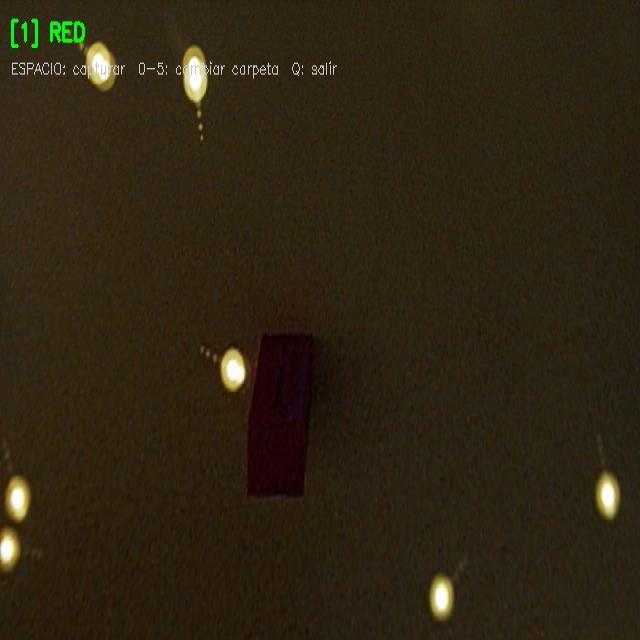red: (250, 330, 308, 496)
